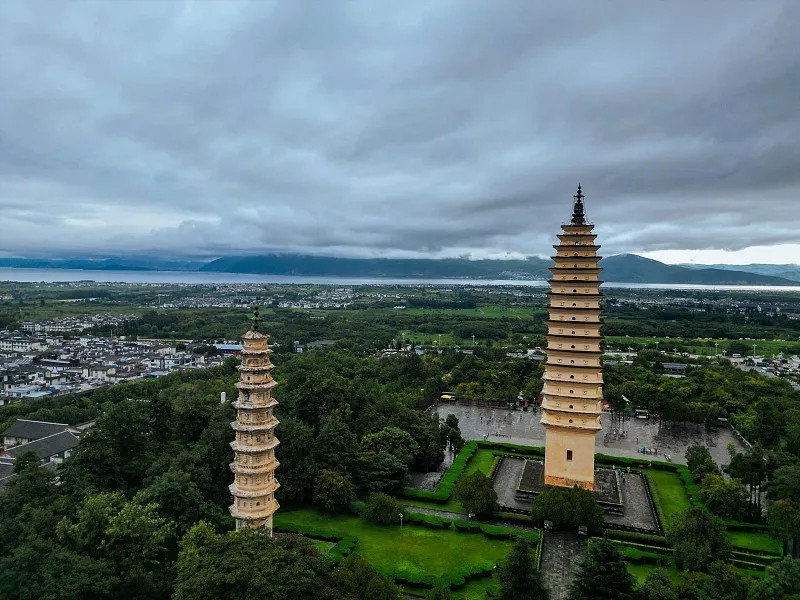ThreePagoda: (540, 184, 604, 491)
